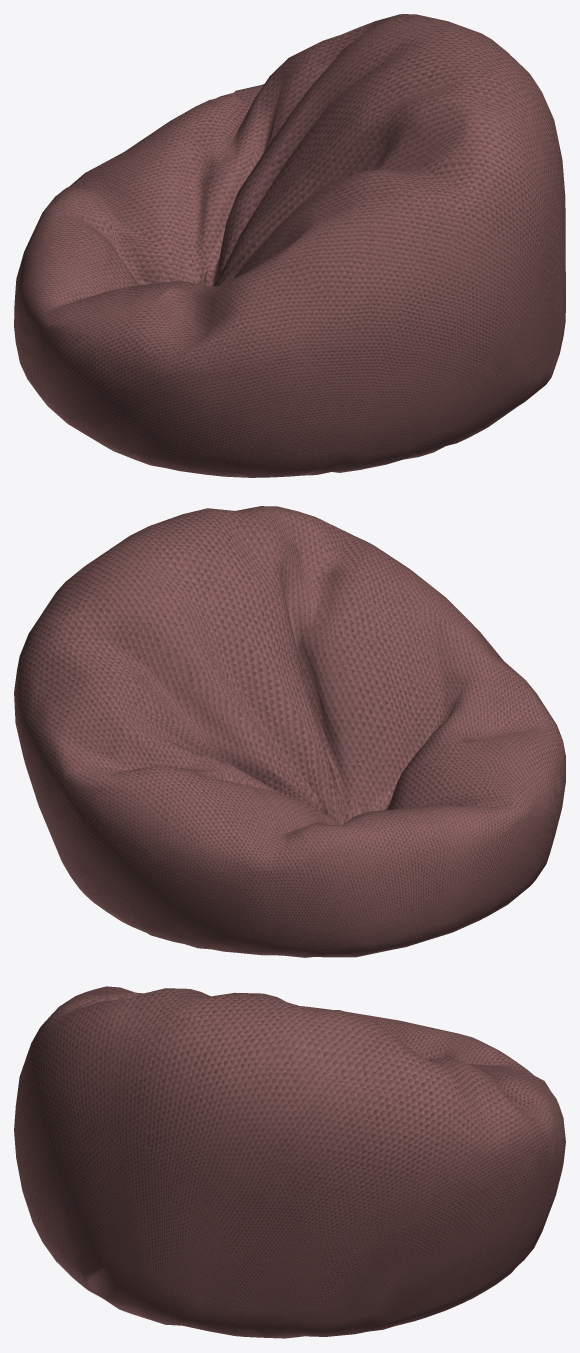
File: Bean Bag Chair.fbx
The picture shows the model from 3 angles, top to bottom: view 1: azimuth 30°, elevation 25°; view 2: azimuth 150°, elevation 25°; view 3: azimuth 270°, elevation 25°; orthographic projection. The views are drawn at different scales.
Visible parts, largest first — view 1: Sphere; view 2: Sphere; view 3: Sphere.
Part boxes in pixels (x1,y1,x2,y2): Sphere: (14, 14, 565, 477); Sphere: (14, 506, 565, 957); Sphere: (14, 986, 565, 1338).
Size of the model in its own units: 207 by 124 by 202.
1 material, 1 textured.
